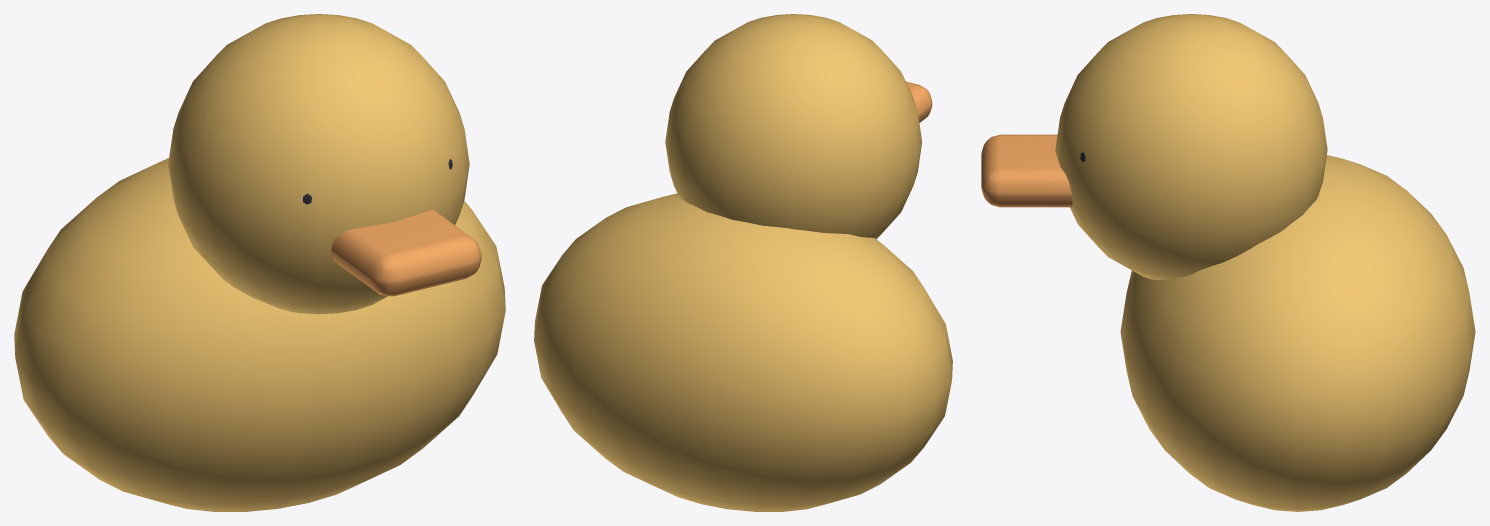
The model's file is bathroomDuck.glb.
The picture shows the model from 3 angles, left to right: view 1: azimuth 30°, elevation 25°; view 2: azimuth 150°, elevation 25°; view 3: azimuth 270°, elevation 25°; orthographic projection. The views are drawn at different scales.
Parts seen in each view (by area): view 1: Duck body, Duck head, Beak; view 2: Duck body, Duck head, Beak; view 3: Duck body, Duck head, Beak.
Part boxes in pixels (x1=…): Duck body: x1=14, y1=158, x2=505, y2=511; Duck head: x1=168, y1=14, x2=469, y2=314; Beak: x1=331, y1=209, x2=481, y2=296; Duck body: x1=534, y1=193, x2=952, y2=511; Duck head: x1=665, y1=14, x2=921, y2=239; Beak: x1=906, y1=81, x2=932, y2=122; Duck body: x1=1120, y1=155, x2=1475, y2=511; Duck head: x1=1055, y1=14, x2=1327, y2=279; Beak: x1=981, y1=134, x2=1072, y2=207.
Size of the model in its own units: 0.8 by 0.85 by 0.835.
